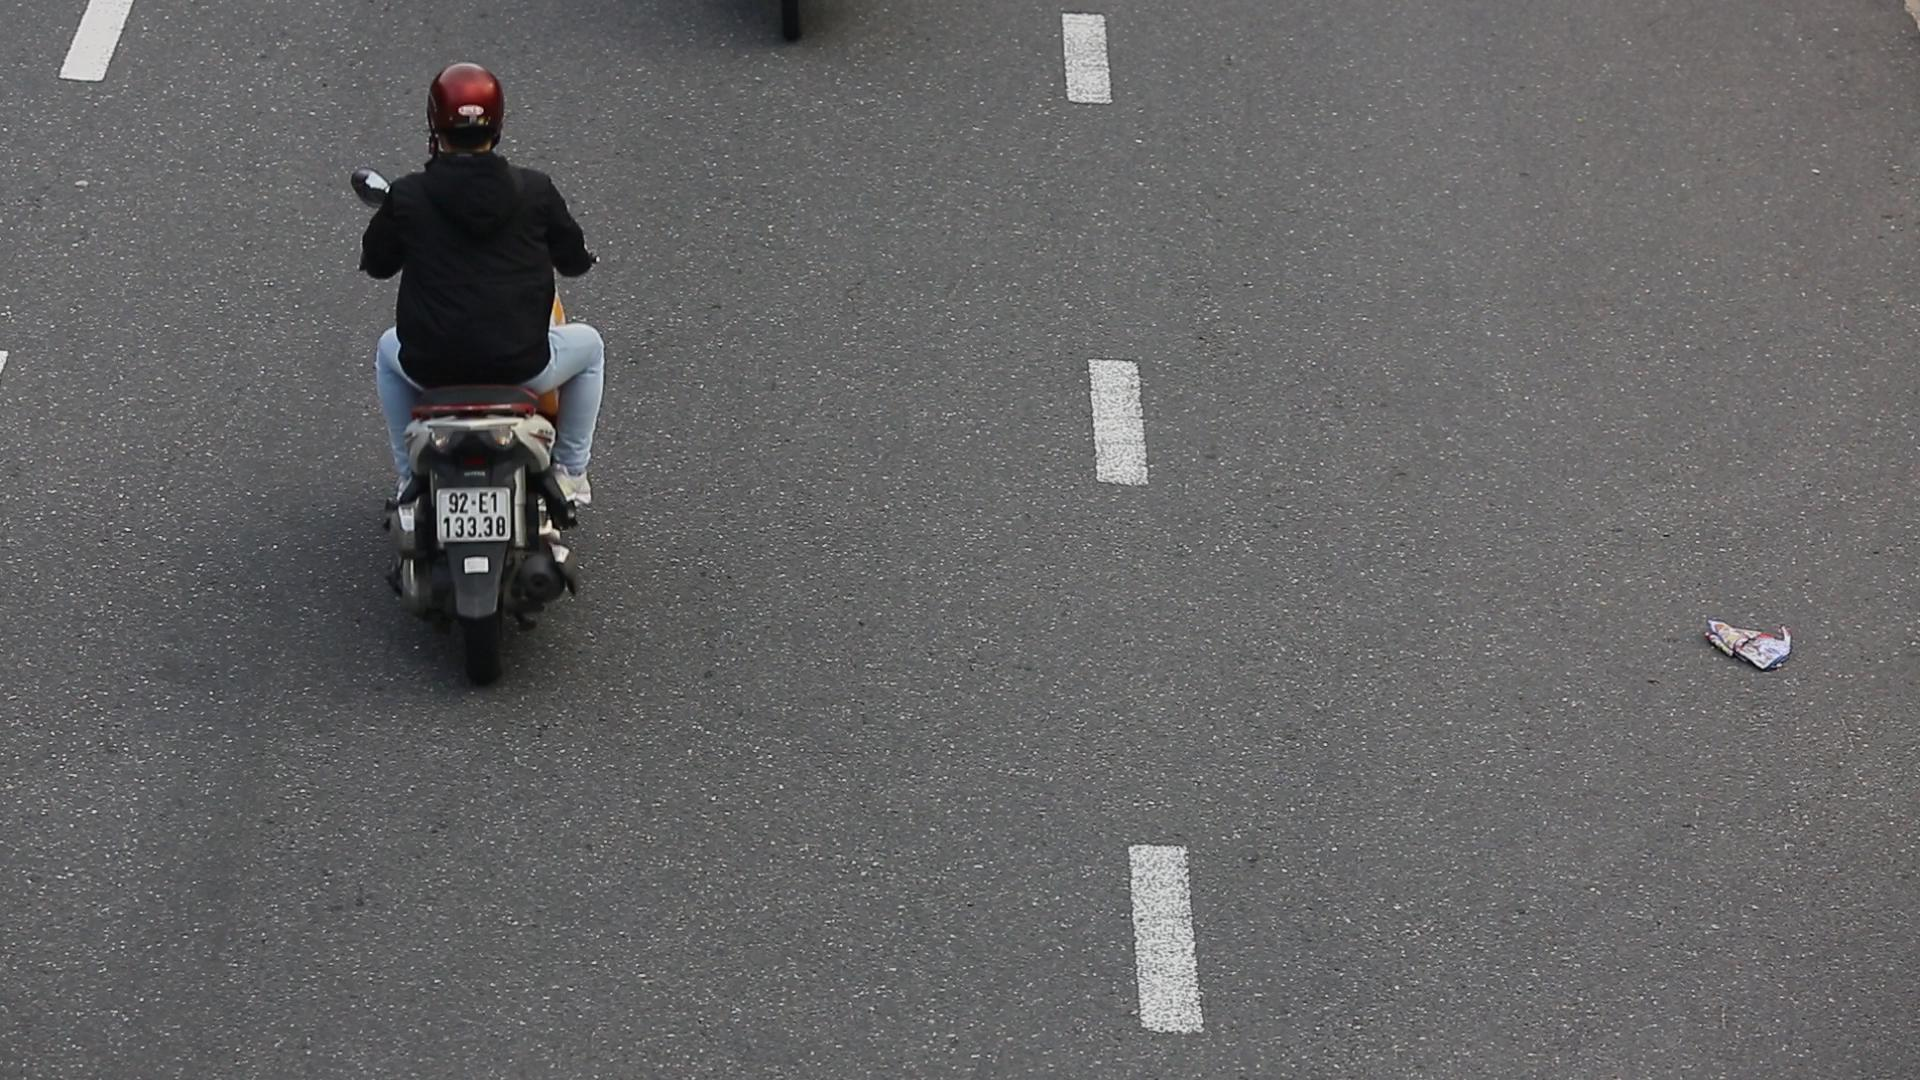motobike: (327, 44, 622, 700)
